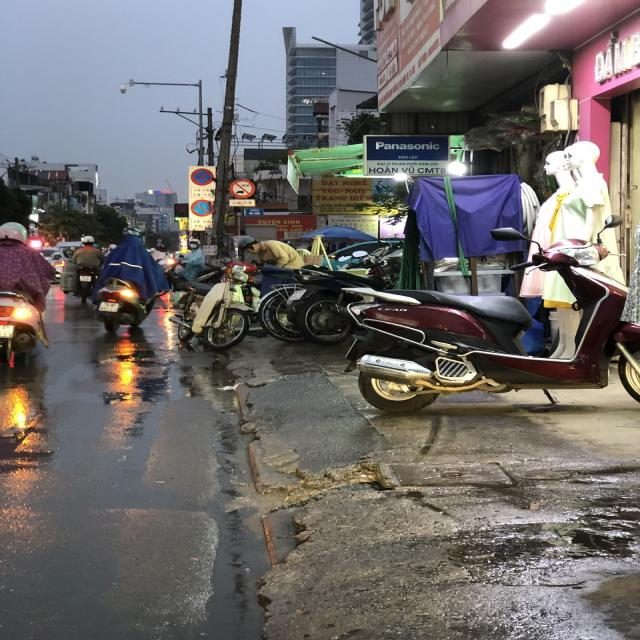Bien bao cam dung xe va do xe: (190, 167, 215, 186)
Bien bao cam xe oto khach va xe oto tai: (228, 178, 256, 199)
